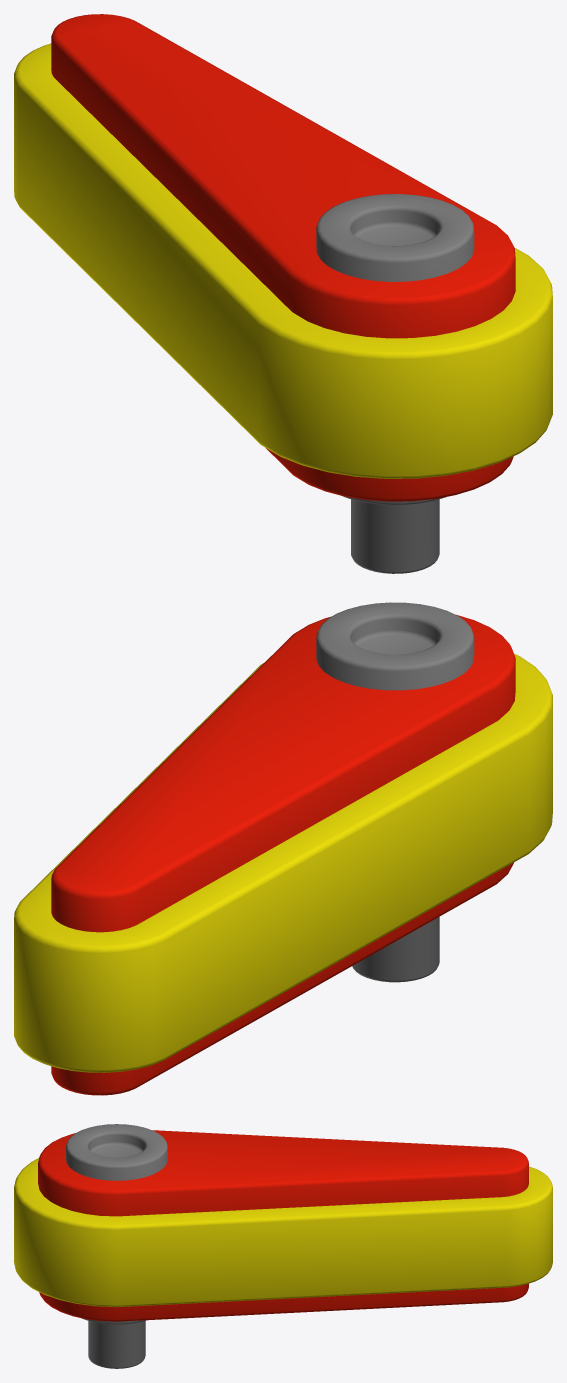
File: Flipper.fbx
3 views of the same model, one above another, from view 1: azimuth 30°, elevation 25°; view 2: azimuth 150°, elevation 25°; view 3: azimuth 270°, elevation 25° (orthographic). The views are drawn at different scales.
Visible parts, largest first — view 1: Flipper_Middle, Flipper, Flipper_CTRL; view 2: Flipper_Middle, Flipper, Flipper_CTRL; view 3: Flipper_Middle, Flipper, Flipper_CTRL.
Part boxes in pixels (x1,y1,x2,y2): Flipper_Middle: (14, 43, 552, 478); Flipper: (51, 14, 515, 501); Flipper_CTRL: (316, 194, 474, 573); Flipper_Middle: (14, 653, 552, 1072); Flipper: (51, 614, 515, 1095); Flipper_CTRL: (316, 602, 474, 982); Flipper_Middle: (14, 1158, 552, 1307); Flipper: (38, 1130, 528, 1321); Flipper_CTRL: (66, 1124, 167, 1368).
Bounding box in the file's own units: 142 × 165 × 379.
